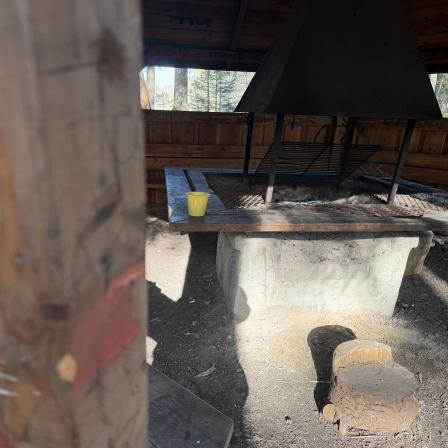yellow_cup: (185, 190, 210, 216)
